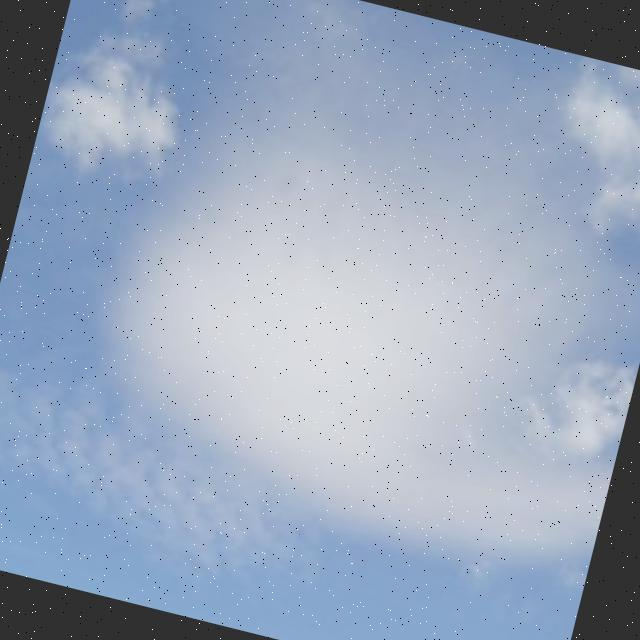Ac: (74, 26, 640, 598)
